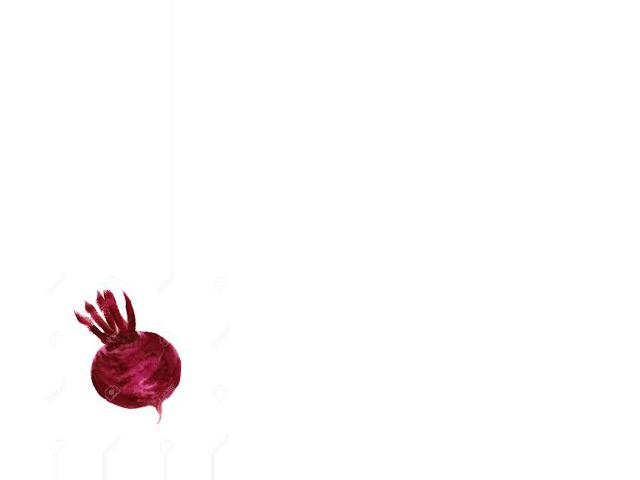beet: (74, 290, 182, 424)
